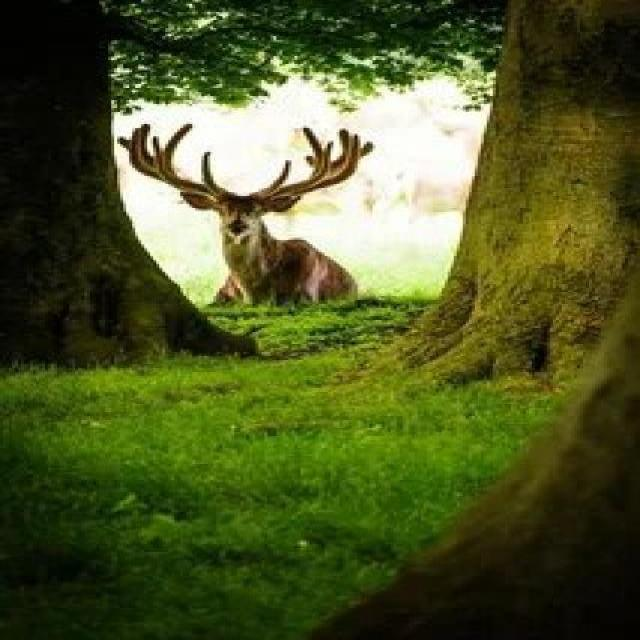deer: (84, 94, 482, 327)
